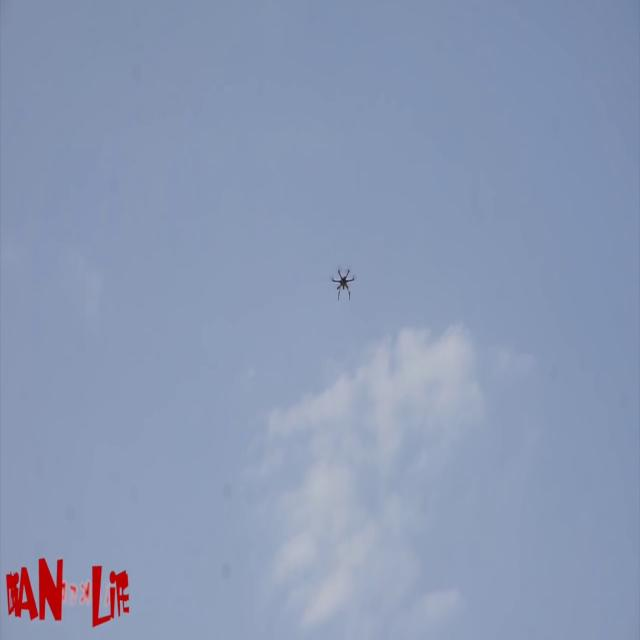drone: (331, 264, 361, 306)
